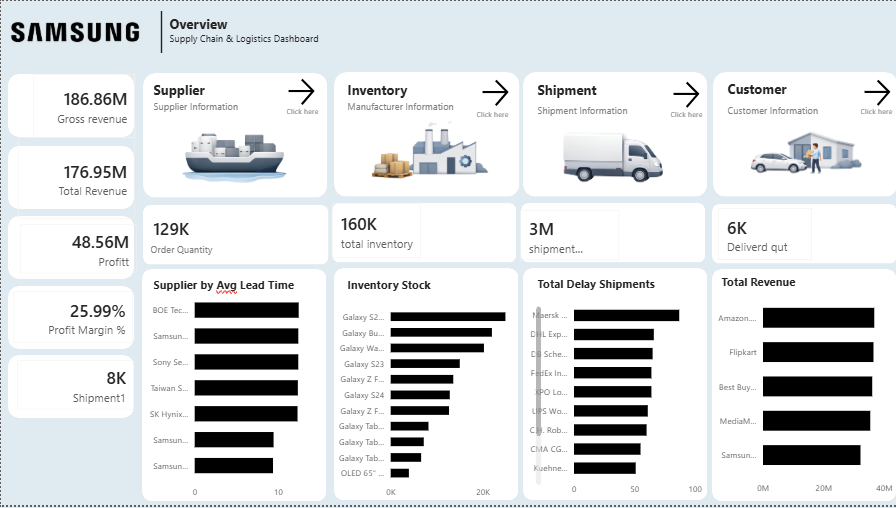

Layout of this report page (visuals, bound fields, positions):
{"tool":"powerbi","page":{"name":"Dashboard","canvas":[1280,720],"ordinal":0},"visuals":[{"type":"shape","box":[10.2,105,180,90],"z":0},{"type":"shape","box":[10,306.7,180,90],"z":1000},{"type":"shape","box":[10,206.7,180,90],"z":2000},{"type":"shape","box":[10,406.7,180,90],"z":3000},{"type":"shape","box":[10,505,180,90],"z":4000},{"type":"shape","box":[203.3,103.3,263.3,178.3],"z":5000},{"type":"shape","box":[475,101.7,265,178.3],"z":6000},{"type":"shape","box":[745,101.7,263.3,178.3],"z":7000},{"type":"shape","box":[1016.7,101.7,264,178.3],"z":8000},{"type":"shape","box":[203.3,291.7,265,85],"z":9000},{"type":"shape","box":[473.3,288.3,263.3,85],"z":10000},{"type":"shape","box":[743.3,288.3,263.3,85],"z":11000},{"type":"shape","box":[1015.7,290.5,264,85],"z":12000},{"type":"shape","box":[201.7,383.3,263.3,331.7],"z":13000},{"type":"shape","box":[475,381.7,263.3,331.7],"z":14000},{"type":"shape","box":[745,381.7,263.3,331.7],"z":15000},{"type":"shape","box":[1015,383.3,263.3,331.7],"z":16000},{"type":"cardVisual","fields":{"Data":["fact_sales.Total gross_revenue"]},"box":[28.3,86.7,180,125],"z":17000},{"type":"cardVisual","fields":{"Data":["fact_sales.total revenue"]},"box":[6.7,176.7,201.7,151.7],"z":18000},{"type":"cardVisual","fields":{"Data":["fact_sales.total profit"]},"box":[10,301.7,201.7,105],"z":19000},{"type":"cardVisual","fields":{"Data":["fact_sales.fact_salesProfit Margin %"]},"box":[0,396.7,206.7,108.3],"z":20000},{"type":"cardVisual","fields":{"Data":["fact_shipment.total shipment"]},"box":[5,495,201.7,105],"z":21000},{"type":"cardVisual","fields":{"Data":["Sum(fact_procurement.order_quantity)"]},"box":[188.6,288.6,165.7,70],"z":22000},{"type":"cardVisual","fields":{"Data":["fact_inventory.total inventory"]},"box":[455,271.7,161.7,113.3],"z":23000},{"type":"cardVisual","fields":{"Data":["fact_shipment.shipment quantity"]},"box":[725,281.7,176.7,106.7],"z":24000},{"type":"cardVisual","fields":{"Data":["fact_shipment.Deliverd qut"]},"box":[1006.7,278.3,168.3,108.3],"z":25000},{"type":"barChart","fields":{"Y":["fact_sales.total revenue"],"Category":["dim_customer.customer_name"]},"box":[1008.9,405.6,270,307.8],"z":26000},{"type":"barChart","fields":{"Category":["fact_shipment.carrier"],"Y":["fact_shipment.Delayed shipmint"]},"box":[738.9,416.7,267.8,298.9],"z":27000},{"type":"barChart","fields":{"Y":["fact_inventory.total stock"],"Category":["dim_product.product_name"]},"box":[465.7,422.9,311.4,297.1],"z":28000},{"type":"barChart","fields":{"Y":["fact_procurement.avg lead time"],"Category":["dim_supplier.supplier_name"]},"box":[195,403.3,271.7,316.7],"z":29000},{"type":"textbox","box":[212.2,390,300,40],"z":30000},{"type":"textbox","box":[761.1,388.9,225.6,40],"z":31000},{"type":"textbox","box":[490,390,300,40],"z":32000},{"type":"textbox","box":[1024.4,385.6,240,40],"z":33000},{"type":"textbox","box":[212.2,108.3,182.2,40],"z":34000},{"type":"textbox","box":[490,108.9,182.2,41.1],"z":35000},{"type":"textbox","box":[761.1,108.9,182.2,41.1],"z":36000},{"type":"textbox","box":[1033.3,107.8,182.2,41.1],"z":37000},{"type":"actionButton","box":[680.8,107.5,52.5,48.3],"z":38000},{"type":"actionButton","box":[954.4,110,52.2,48],"z":39000},{"type":"actionButton","box":[1227.8,107.8,53,48],"z":40000},{"type":"actionButton","box":[404.2,105.8,50.8,48.3],"z":41000},{"type":"image","box":[243.3,142.2,174.4,146.7],"z":42000},{"type":"image","box":[511.1,136.7,191.1,142.2],"z":43000},{"type":"image","box":[790,153.3,164.4,128.9],"z":44000},{"type":"image","box":[1064.2,123.3,180,183.3],"z":45000},{"type":"textbox","box":[212.2,137.8,158.9,38.9],"z":46000},{"type":"textbox","box":[490,136.7,230,38.9],"z":47000},{"type":"textbox","box":[1033.3,142.2,158.9,38.9],"z":48000},{"type":"textbox","box":[761.1,143.3,158.9,38.9],"z":49000},{"type":"image","box":[0,20,202.9,48.6],"z":50000},{"type":"textbox","box":[235.7,14.3,252.9,65.7],"z":51000},{"type":"shape","box":[195.7,14.3,67.1,60],"z":52000},{"type":"textbox","box":[403.3,143.3,65,28.3],"z":52001},{"type":"textbox","box":[675,147.5,65,28.3],"z":52002},{"type":"textbox","box":[950.8,147.5,65,28.3],"z":52003},{"type":"textbox","box":[1222.5,143.3,57.5,28.3],"z":52004},{"type":"textbox","box":[208.3,340.8,125,42.5],"z":52005}]}

Visuals, with their boxes in screenshot pixels (x1, y1, x2, y2), scaled from the page's 1280x720 canvas onto the 896x508 screenshot:
shape: <region>7, 74, 133, 138</region>
shape: <region>7, 216, 133, 280</region>
shape: <region>7, 146, 133, 209</region>
shape: <region>7, 287, 133, 350</region>
shape: <region>7, 356, 133, 420</region>
shape: <region>142, 73, 327, 199</region>
shape: <region>332, 72, 518, 198</region>
shape: <region>522, 72, 706, 198</region>
shape: <region>712, 72, 895, 198</region>
shape: <region>142, 206, 328, 266</region>
shape: <region>331, 203, 516, 263</region>
shape: <region>520, 203, 705, 263</region>
shape: <region>711, 205, 895, 265</region>
shape: <region>141, 270, 326, 504</region>
shape: <region>332, 269, 517, 503</region>
shape: <region>522, 269, 706, 503</region>
shape: <region>710, 270, 895, 504</region>
cardVisual - fact_sales.Total gross_revenue: <region>20, 61, 146, 149</region>
cardVisual - fact_sales.total revenue: <region>5, 125, 146, 232</region>
cardVisual - fact_sales.total profit: <region>7, 213, 148, 287</region>
cardVisual - fact_sales.fact_salesProfit Margin %: <region>0, 280, 145, 356</region>
cardVisual - fact_shipment.total shipment: <region>4, 349, 145, 423</region>
cardVisual - Sum(fact_procurement.order_quantity): <region>132, 204, 248, 253</region>
cardVisual - fact_inventory.total inventory: <region>318, 192, 432, 272</region>
cardVisual - fact_shipment.shipment quantity: <region>507, 199, 631, 274</region>
cardVisual - fact_shipment.Deliverd qut: <region>705, 196, 822, 273</region>
barChart - fact_sales.total revenue x dim_customer.customer_name: <region>706, 286, 895, 503</region>
barChart - fact_shipment.carrier x fact_shipment.Delayed shipmint: <region>517, 294, 705, 505</region>
barChart - fact_inventory.total stock x dim_product.product_name: <region>326, 298, 544, 507</region>
barChart - fact_procurement.avg lead time x dim_supplier.supplier_name: <region>136, 285, 327, 507</region>
textbox: <region>149, 275, 359, 303</region>
textbox: <region>533, 274, 691, 303</region>
textbox: <region>343, 275, 553, 303</region>
textbox: <region>717, 272, 885, 300</region>
textbox: <region>149, 76, 276, 105</region>
textbox: <region>343, 77, 471, 106</region>
textbox: <region>533, 77, 660, 106</region>
textbox: <region>723, 76, 851, 105</region>
actionButton: <region>477, 76, 513, 110</region>
actionButton: <region>668, 78, 705, 111</region>
actionButton: <region>859, 76, 895, 110</region>
actionButton: <region>283, 75, 318, 109</region>
image: <region>170, 100, 292, 204</region>
image: <region>358, 96, 492, 197</region>
image: <region>553, 108, 668, 199</region>
image: <region>745, 87, 871, 216</region>
textbox: <region>149, 97, 260, 125</region>
textbox: <region>343, 96, 504, 124</region>
textbox: <region>723, 100, 835, 128</region>
textbox: <region>533, 101, 644, 129</region>
image: <region>0, 14, 142, 48</region>
textbox: <region>165, 10, 342, 56</region>
shape: <region>137, 10, 184, 52</region>
textbox: <region>282, 101, 328, 121</region>
textbox: <region>472, 104, 518, 124</region>
textbox: <region>666, 104, 711, 124</region>
textbox: <region>856, 101, 895, 121</region>
textbox: <region>146, 240, 233, 270</region>
